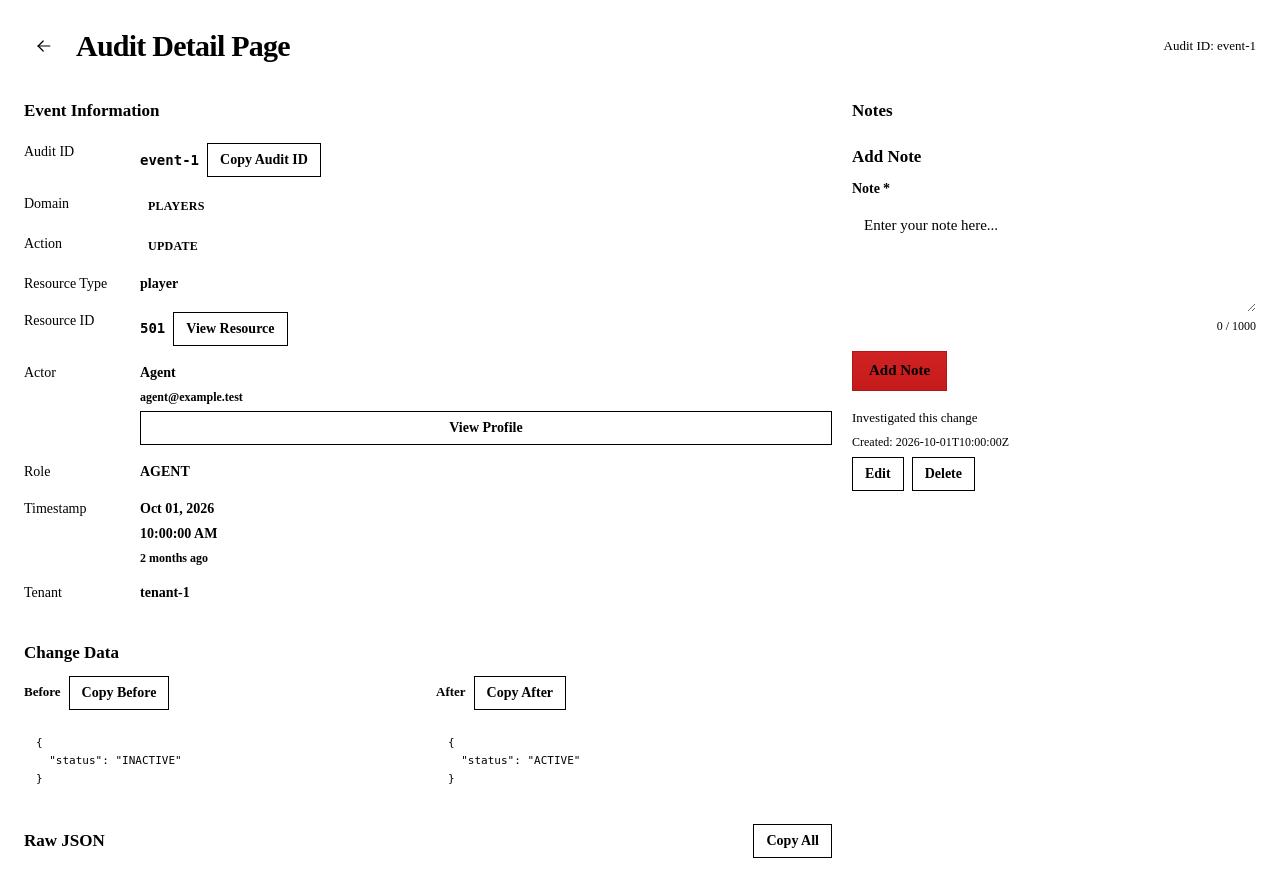
Scenario: audit detail and annotations contracts › empty-note validation suppresses mutation; failed note save retains the typed value
Click the button "Add Note" at (900, 371), box x1=852 y1=351 x2=947 y2=391
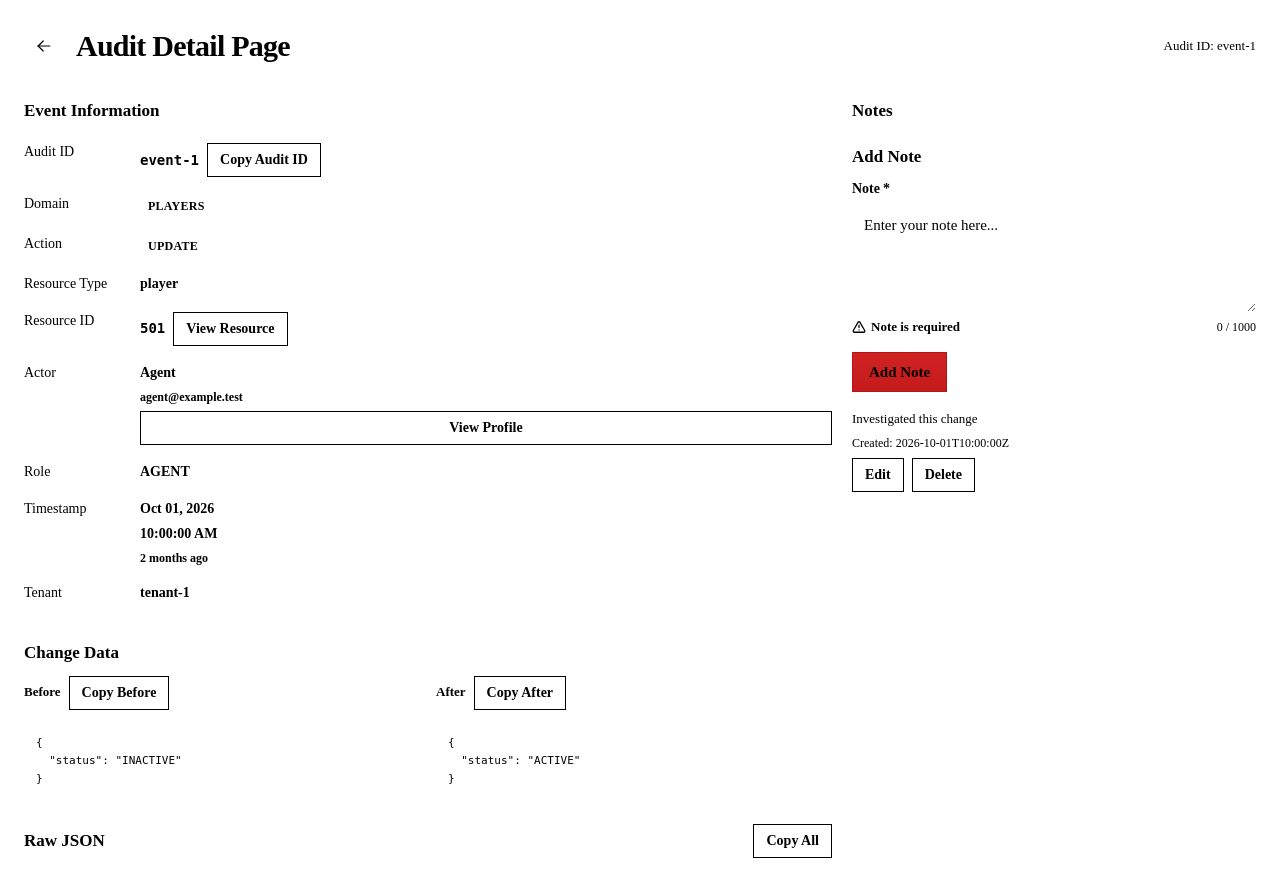
Expected: the text "Note is required" is shown, x1=871 y1=319 x2=960 y2=334
Type "Retain me" into the text box labelled "Note" at (1054, 258), box x1=852 y1=205 x2=1256 y2=312
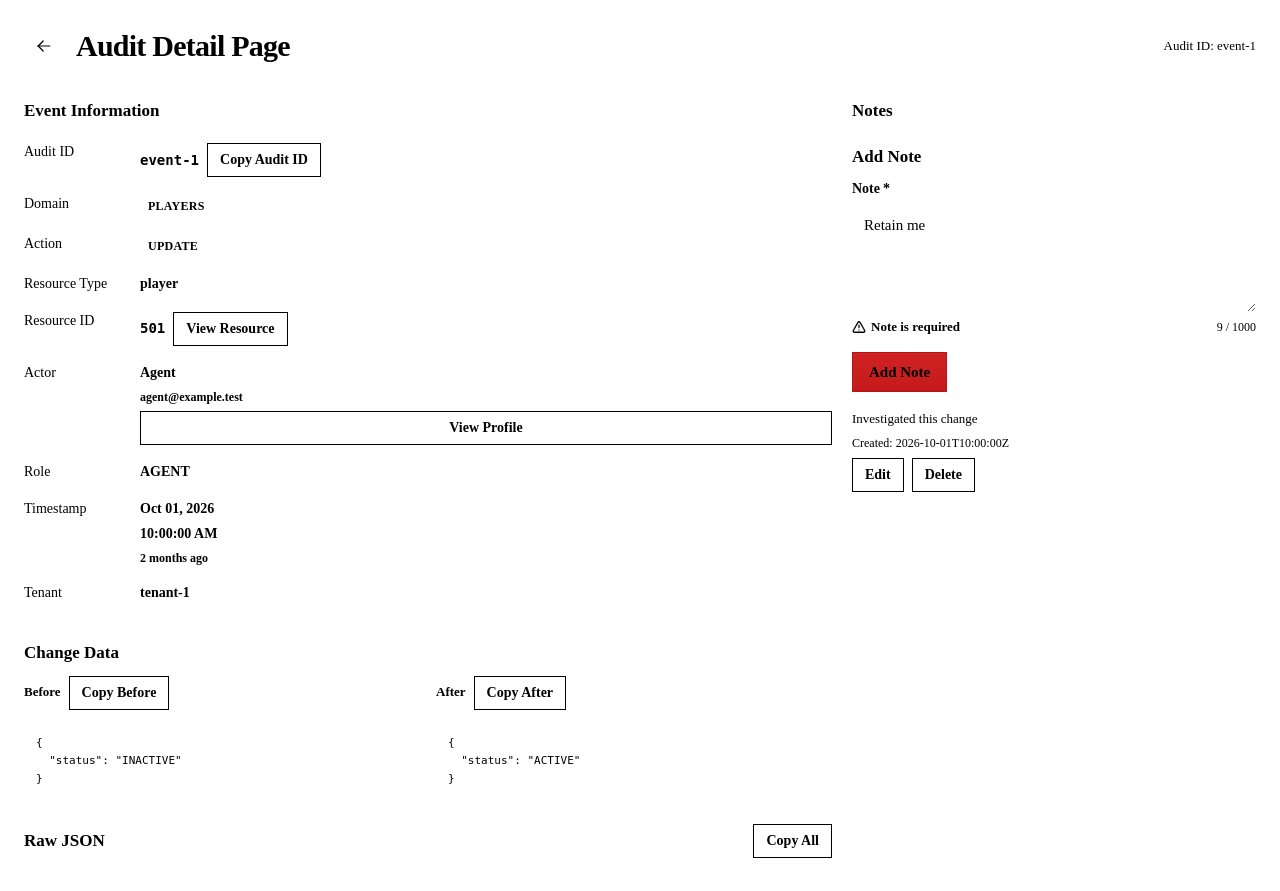
Click the button "Add Note" at (900, 372), box x1=852 y1=352 x2=947 y2=392
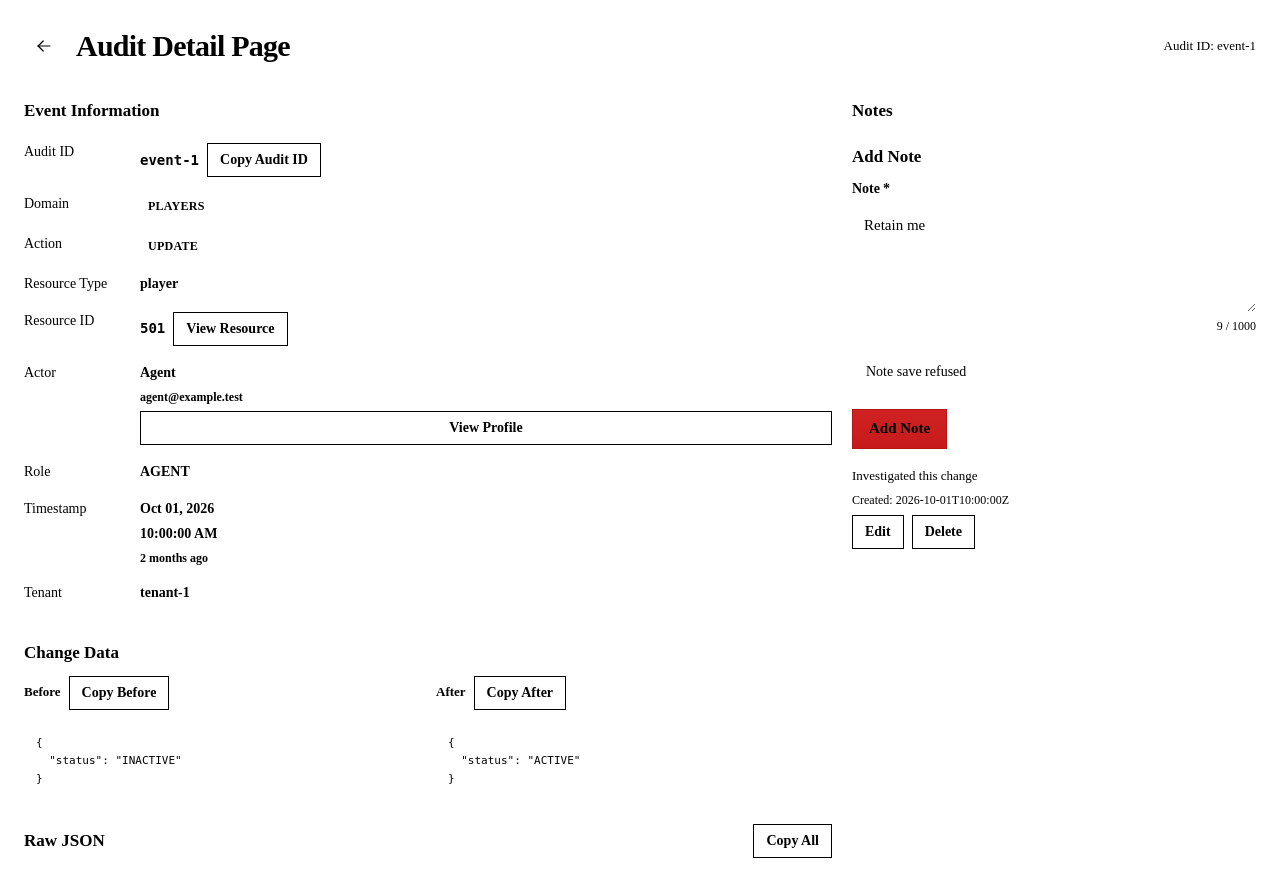
Expected: the text "Note save refused" is shown, x1=866 y1=364 x2=966 y2=379
